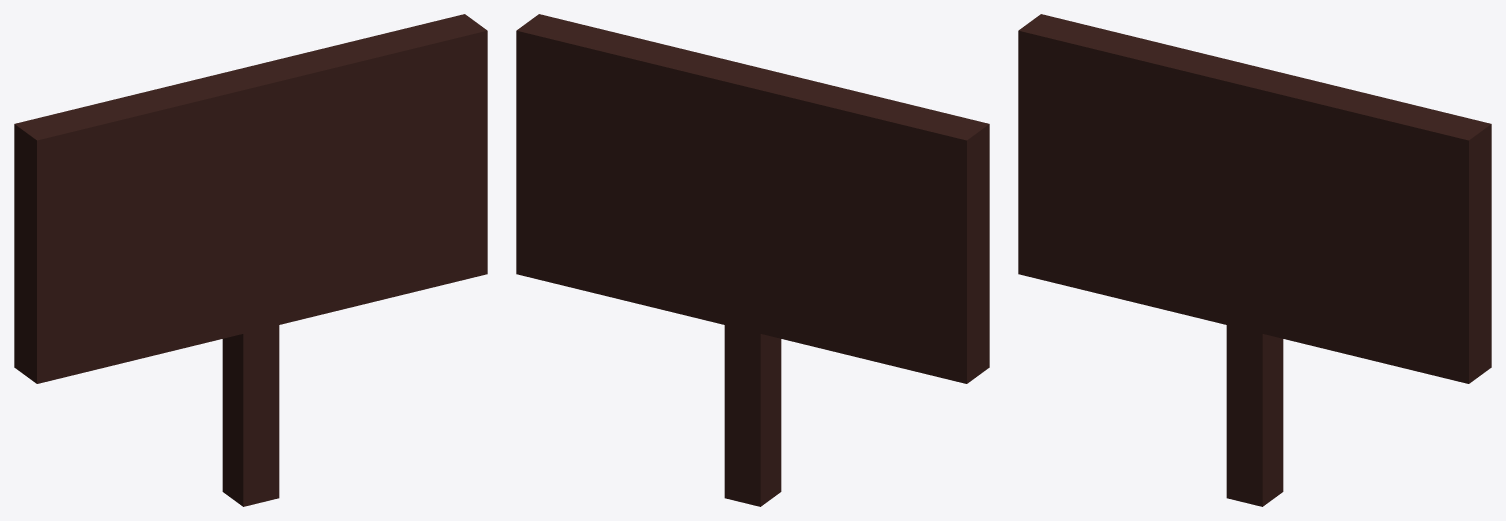
The model's file is sign.fbx.
3 renders of one model, left to right at view 1: azimuth 30°, elevation 25°; view 2: azimuth 150°, elevation 25°; view 3: azimuth 330°, elevation 25°, orthographic.
Visible parts, largest first — view 1: Cube.001; view 2: Cube.001; view 3: Cube.001.
Part boxes in pixels (left/top/right/bottom): Cube.001: left=14, top=14, right=487, bottom=506; Cube.001: left=516, top=14, right=989, bottom=506; Cube.001: left=1018, top=14, right=1491, bottom=506.
Size of the model in its own units: 576 by 510 by 50.31.
